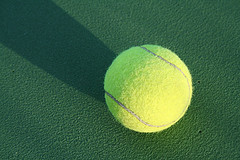tennis ball: (102, 42, 195, 136)
